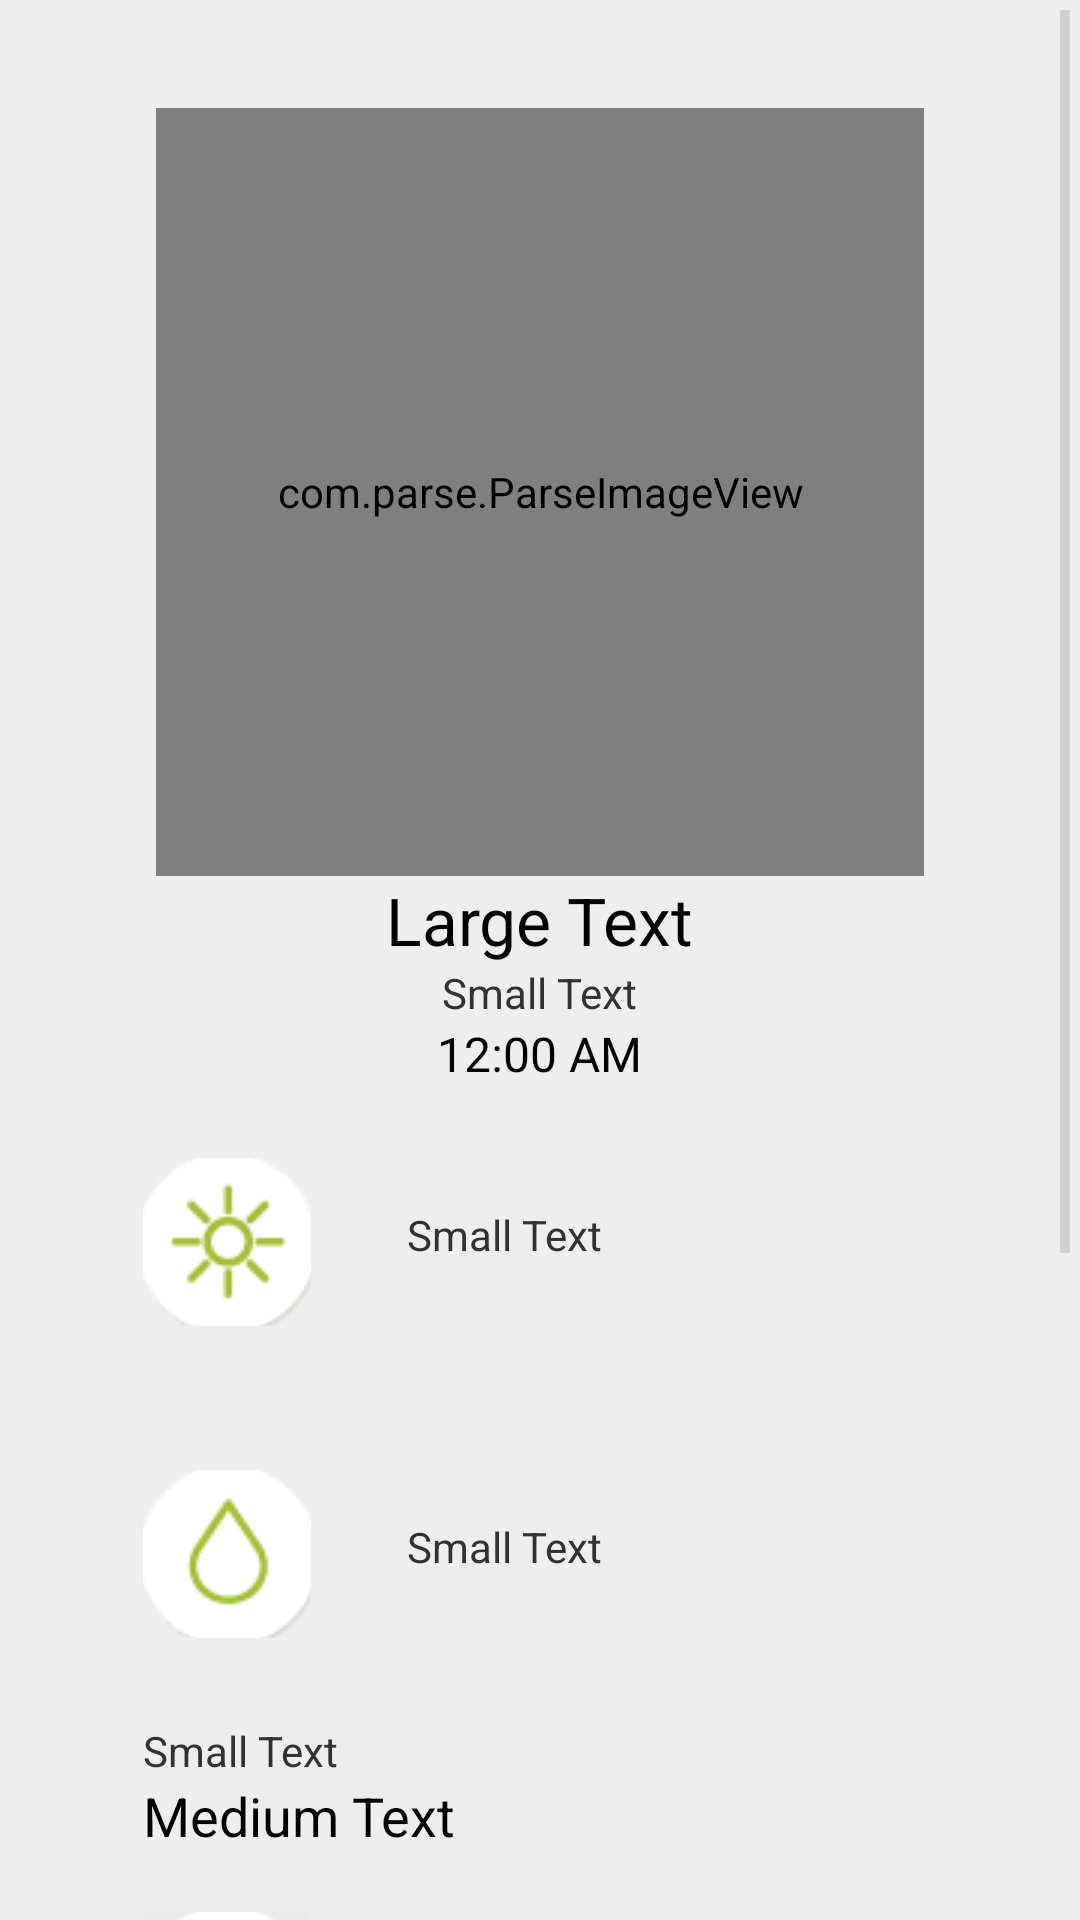

Screen size 1080x1920. Icon name, then its box in pixels as (x1, y1, x2, y2):
acqua no sfondo: (143, 1470, 311, 1638)
luce no sfondo: (143, 1158, 311, 1326)
